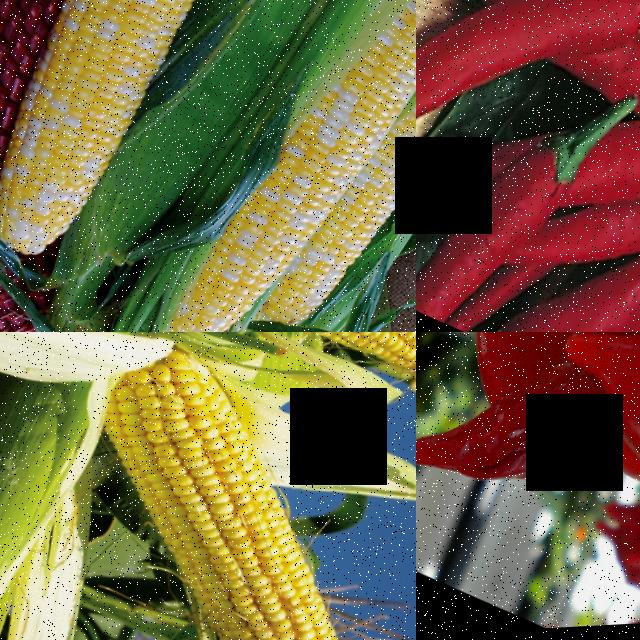chilli: (416, 87, 605, 332), (416, 0, 539, 235), (526, 332, 640, 533), (586, 19, 640, 141)
corn: (57, 332, 381, 638), (0, 0, 277, 282), (156, 130, 343, 332), (271, 0, 416, 189), (273, 167, 406, 332), (179, 574, 416, 640), (291, 332, 416, 454), (360, 14, 416, 214)
